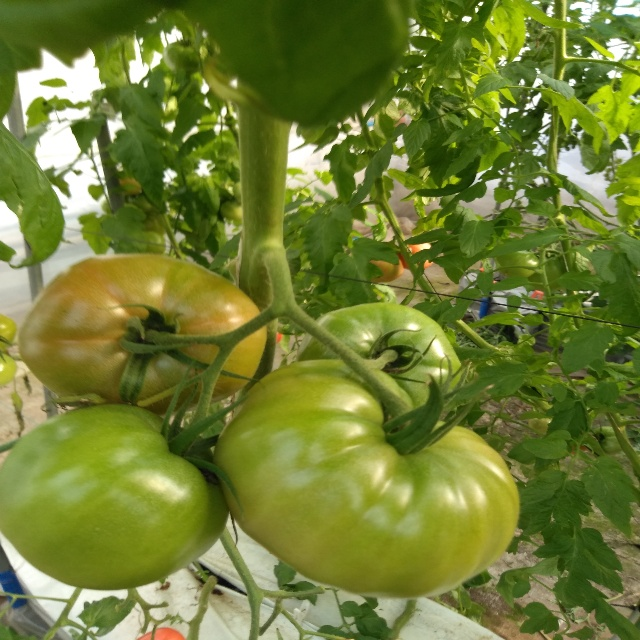b_green: (214, 360, 520, 600), (0, 402, 230, 591), (295, 303, 462, 418), (527, 255, 568, 293), (496, 249, 540, 278)
b_half_ripened: (17, 253, 268, 416), (368, 259, 404, 284)
